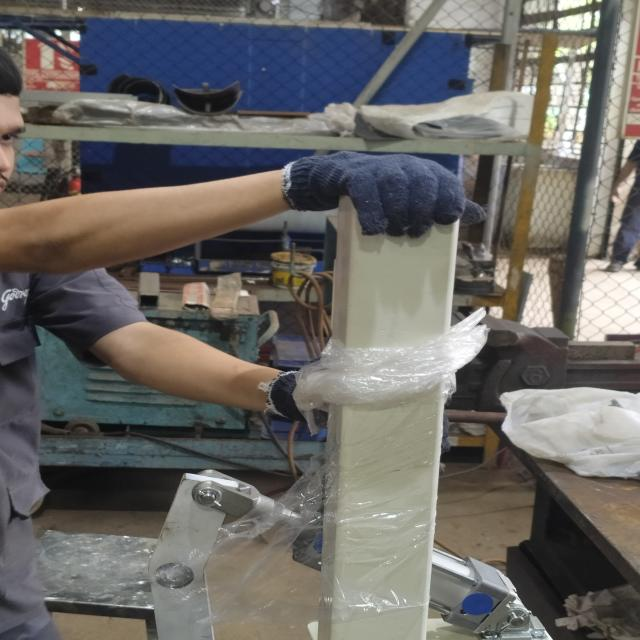Gloves-Detection: (286, 154, 484, 241)
